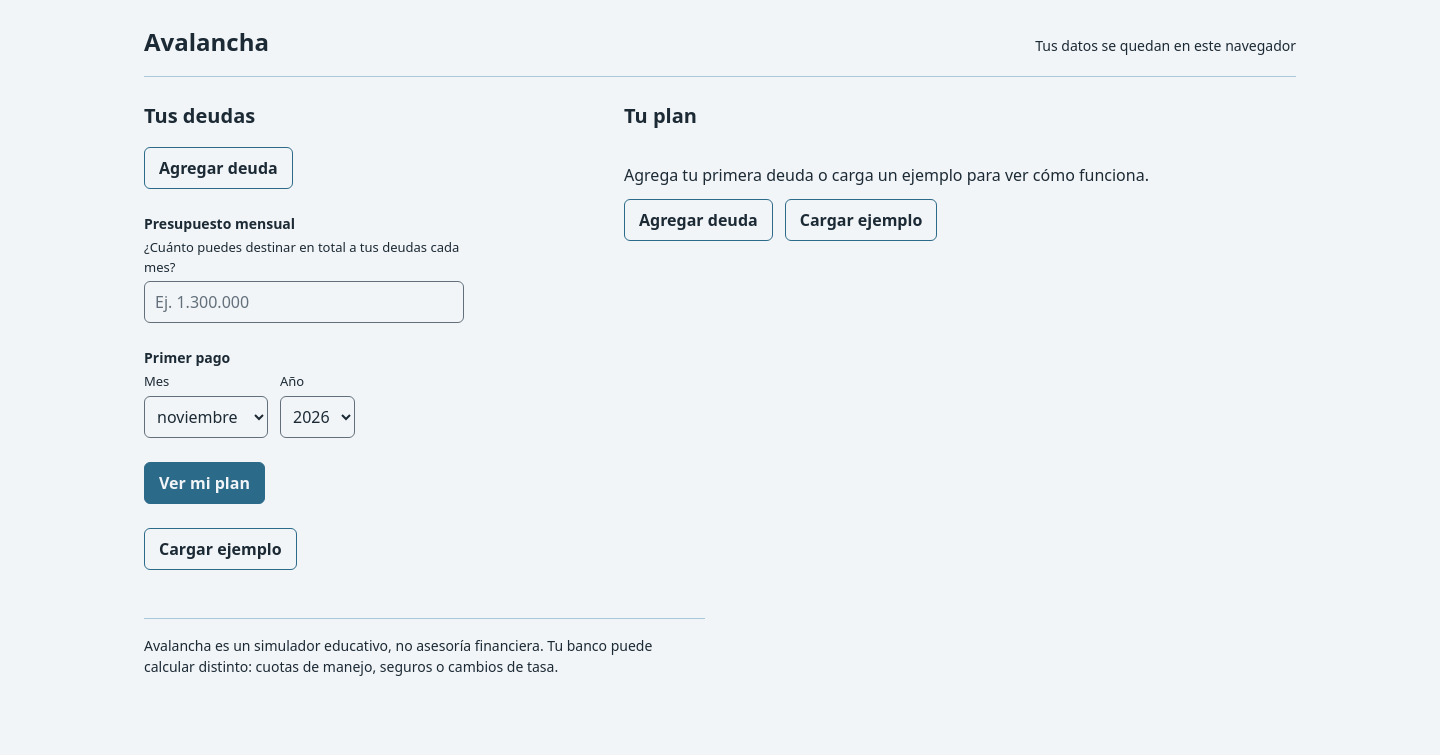
Test case: App › loads the example without errors and persists it
The width and height of the screenshot is (1440, 755).
Click the button "Cargar ejemplo" below "Año". click: (220, 548)
box: x1=144 y1=528 x2=297 y2=570
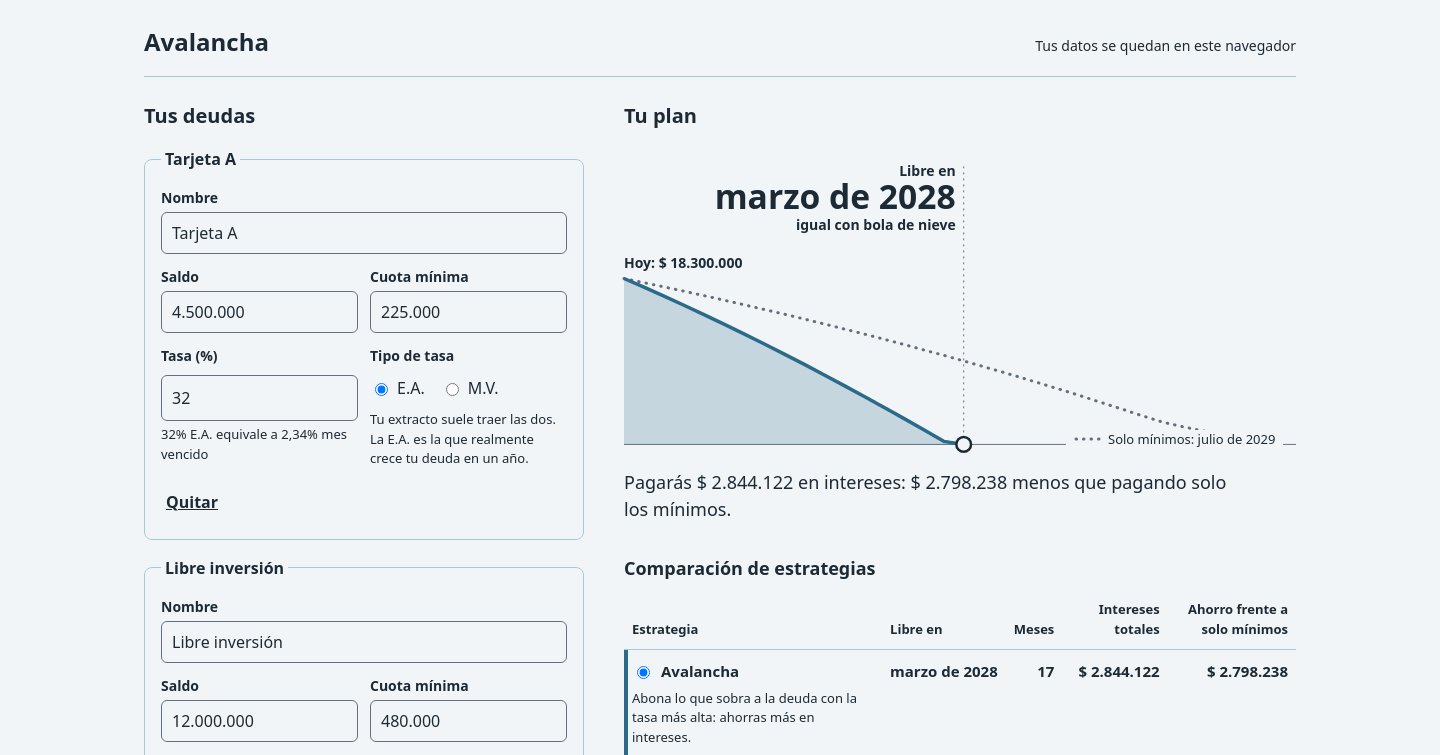
Expected: the element "Tarjeta A" is shown, x1=144 y1=147 x2=584 y2=540
Expected: the text "Agrega tu primera deuda o carga un ejemplo para ver cómo funciona." is gone
